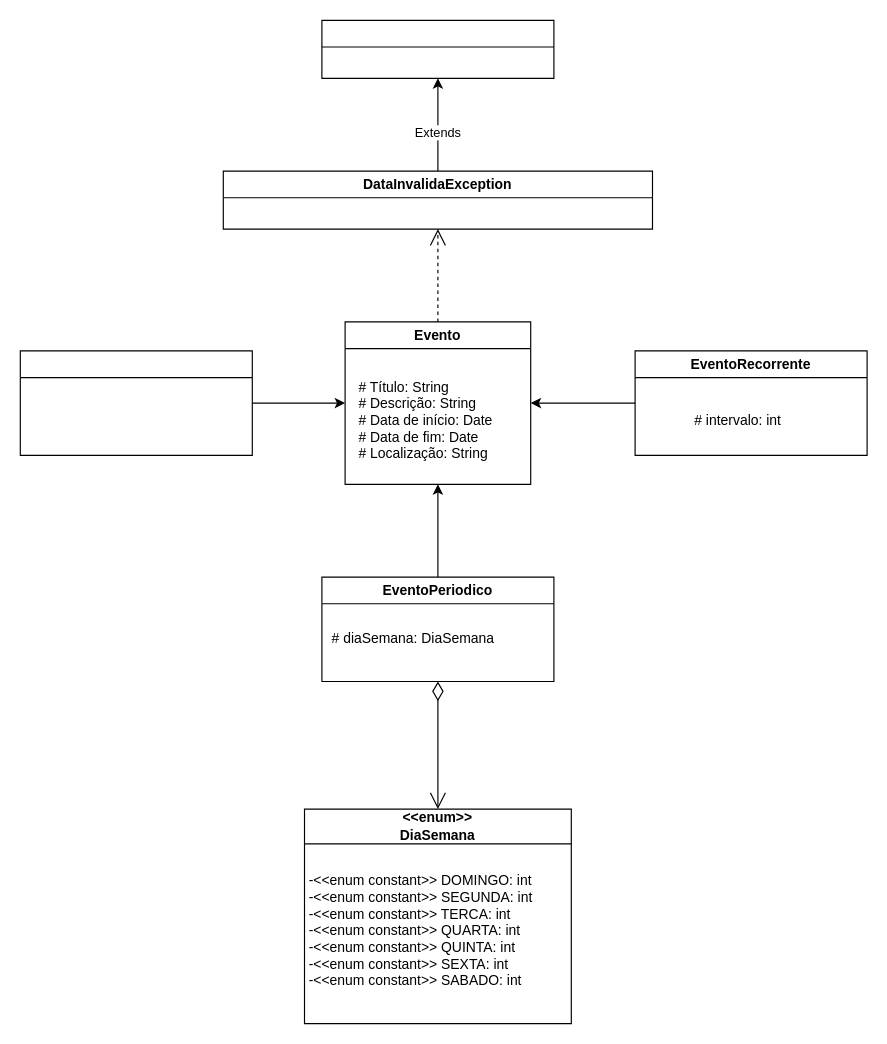
The diagram is 887 pixels wide and 1044 high, and some of its shapes have lost their labels. Each missing label, with the centre of its shape:
"EventoUnico" goes at point (135, 402).
"java::lang::exception" goes at point (437, 48).
